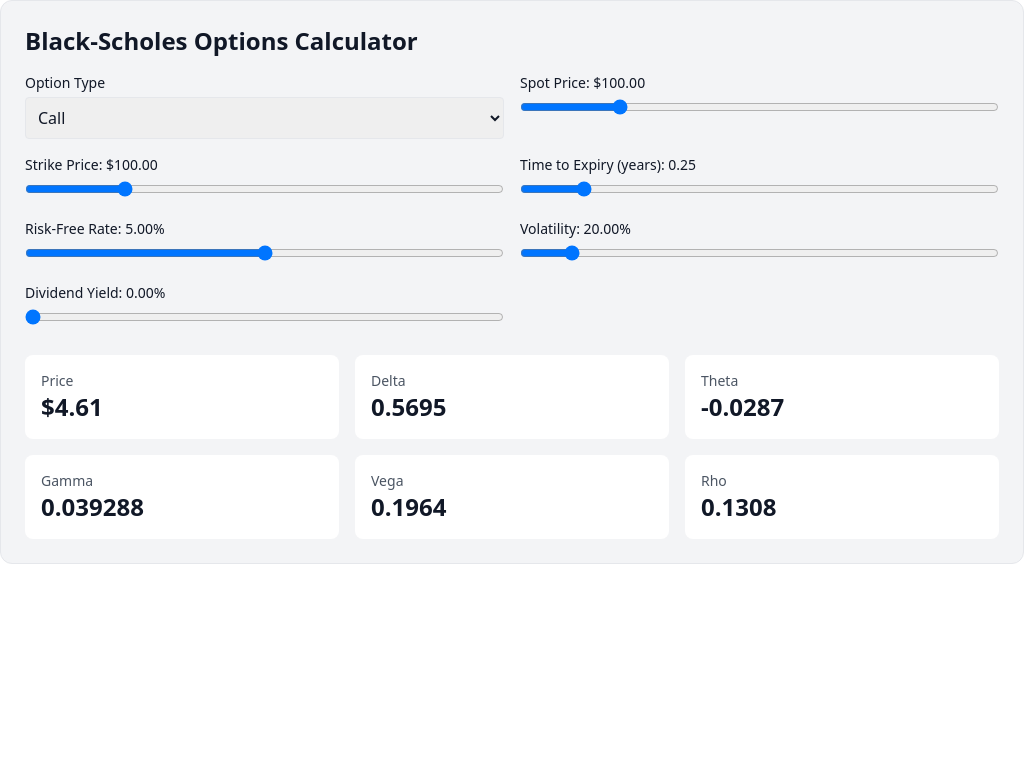
Test: moving a slider updates the label beside it
This screenshot has width=1024, height=768.
Set the slider below "Spot Price: $" to "250" at x=759, y=107, box left=520, top=99, right=999, bottom=115
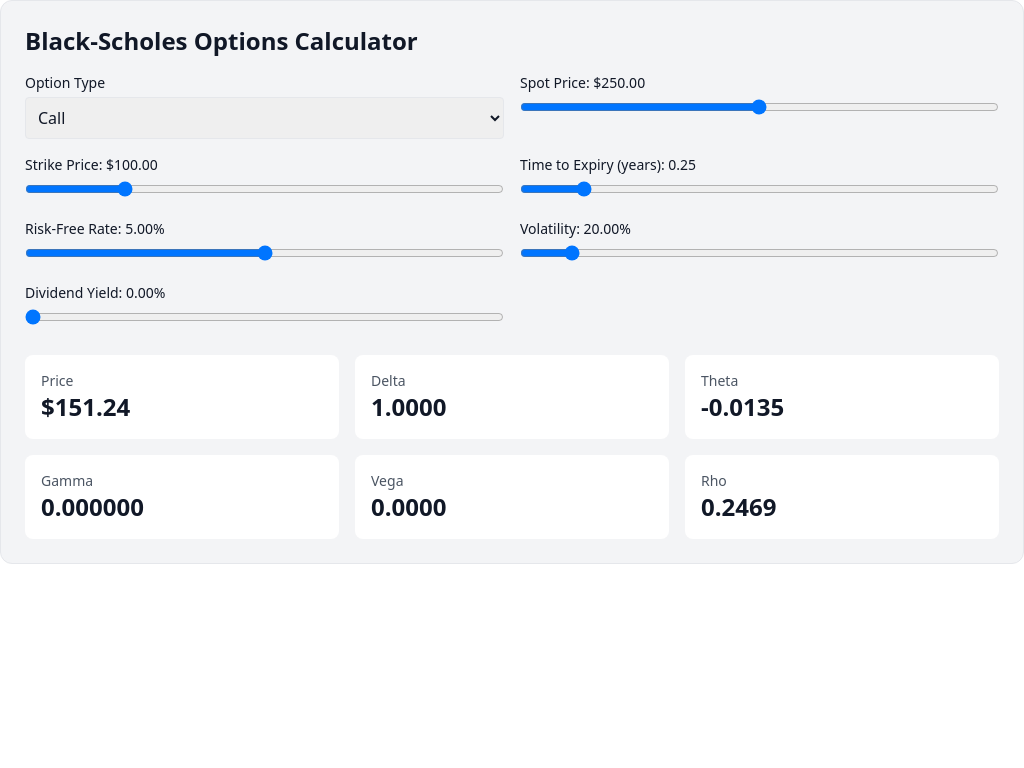
Now the text "Spot Price: $250.00" is shown, box left=520, top=73, right=645, bottom=92
